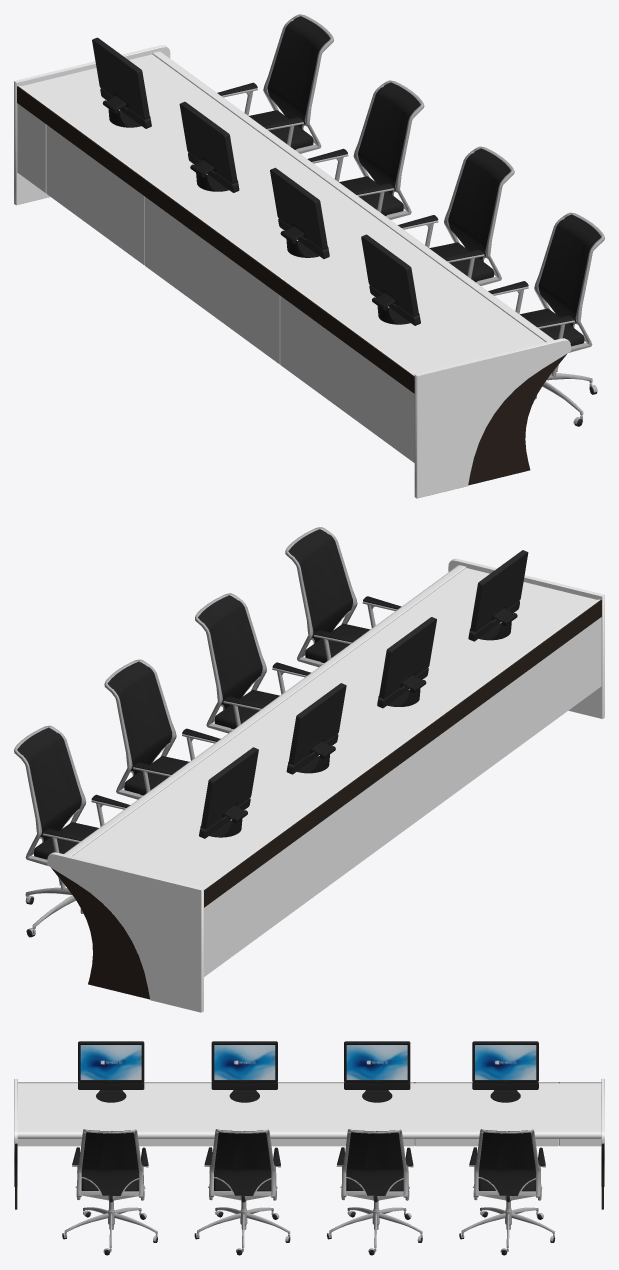
Rendered from 电脑显示器、桌椅.fbx.
The picture shows the model from 3 angles, top to bottom: view 1: azimuth 30°, elevation 25°; view 2: azimuth 150°, elevation 25°; view 3: azimuth 270°, elevation 25°; orthographic projection. The views are drawn at different scales.
Parts seen in each view (by area): view 1: Group2112594159, Box206, Box205, Line3423, Line3429, Line3435, Line3441, Box203, Arch35_022_4478, Arch35_022_4458, Arch35_022_4418, Arch35_022_4468 (+9 smaller); view 2: Group2112594159, Box204, Box205, Line3423, Line3435, Line3441, Line3429, Box203, Arch35_022_4478, Arch35_022_4468, Arch35_022_4418, Arch35_022_4458 (+9 smaller); view 3: Group2112594159, Box203, Line3429, Line3435, Line3441, Line3423, Arch35_022_4411, Arch35_022_4451, Arch35_022_4461, Arch35_022_4471, Loft3260, Loft3233 (+17 smaller).
Boxes of the visible parts, x1,y1,x2,y2 form: Group2112594159: (17,54,566,485); Box206: (414,338,570,498); Box205: (17,86,414,393); Line3423: (448,148,510,260); Line3429: (538,214,601,326); Line3435: (358,82,420,194); Line3441: (267,16,330,128); Box203: (152,51,554,341); Arch35_022_4478: (92,37,151,128); Arch35_022_4458: (270,167,328,258); Arch35_022_4418: (361,234,420,325); Arch35_022_4468: (179,101,238,192); Group2112594159: (51,568,601,999); Box204: (47,852,203,1012); Box205: (204,600,601,907); Line3423: (198,595,262,708); Line3435: (107,661,172,775); Line3441: (17,727,81,841); Line3429: (288,529,352,642); Box203: (64,565,466,856); Arch35_022_4478: (199,747,258,838); Arch35_022_4468: (287,683,346,774); Arch35_022_4418: (469,550,528,641); Arch35_022_4458: (377,617,436,708); Group2112594159: (15,1082,603,1209); Box203: (17,1130,601,1138); Line3429: (81,1130,138,1195); Line3435: (346,1130,403,1195); Line3441: (478,1130,536,1195); Line3423: (214,1130,271,1195); Arch35_022_4411: (80,1045,141,1079); Arch35_022_4451: (214,1045,275,1079); Arch35_022_4461: (346,1045,407,1079); Arch35_022_4471: (475,1045,536,1079); Loft3260: (341,1129,408,1197); Loft3233: (209,1129,276,1197).
Size of the model in its own units: 1549 by 1168 by 4465.
Materials: 9 (1 with a texture image).
